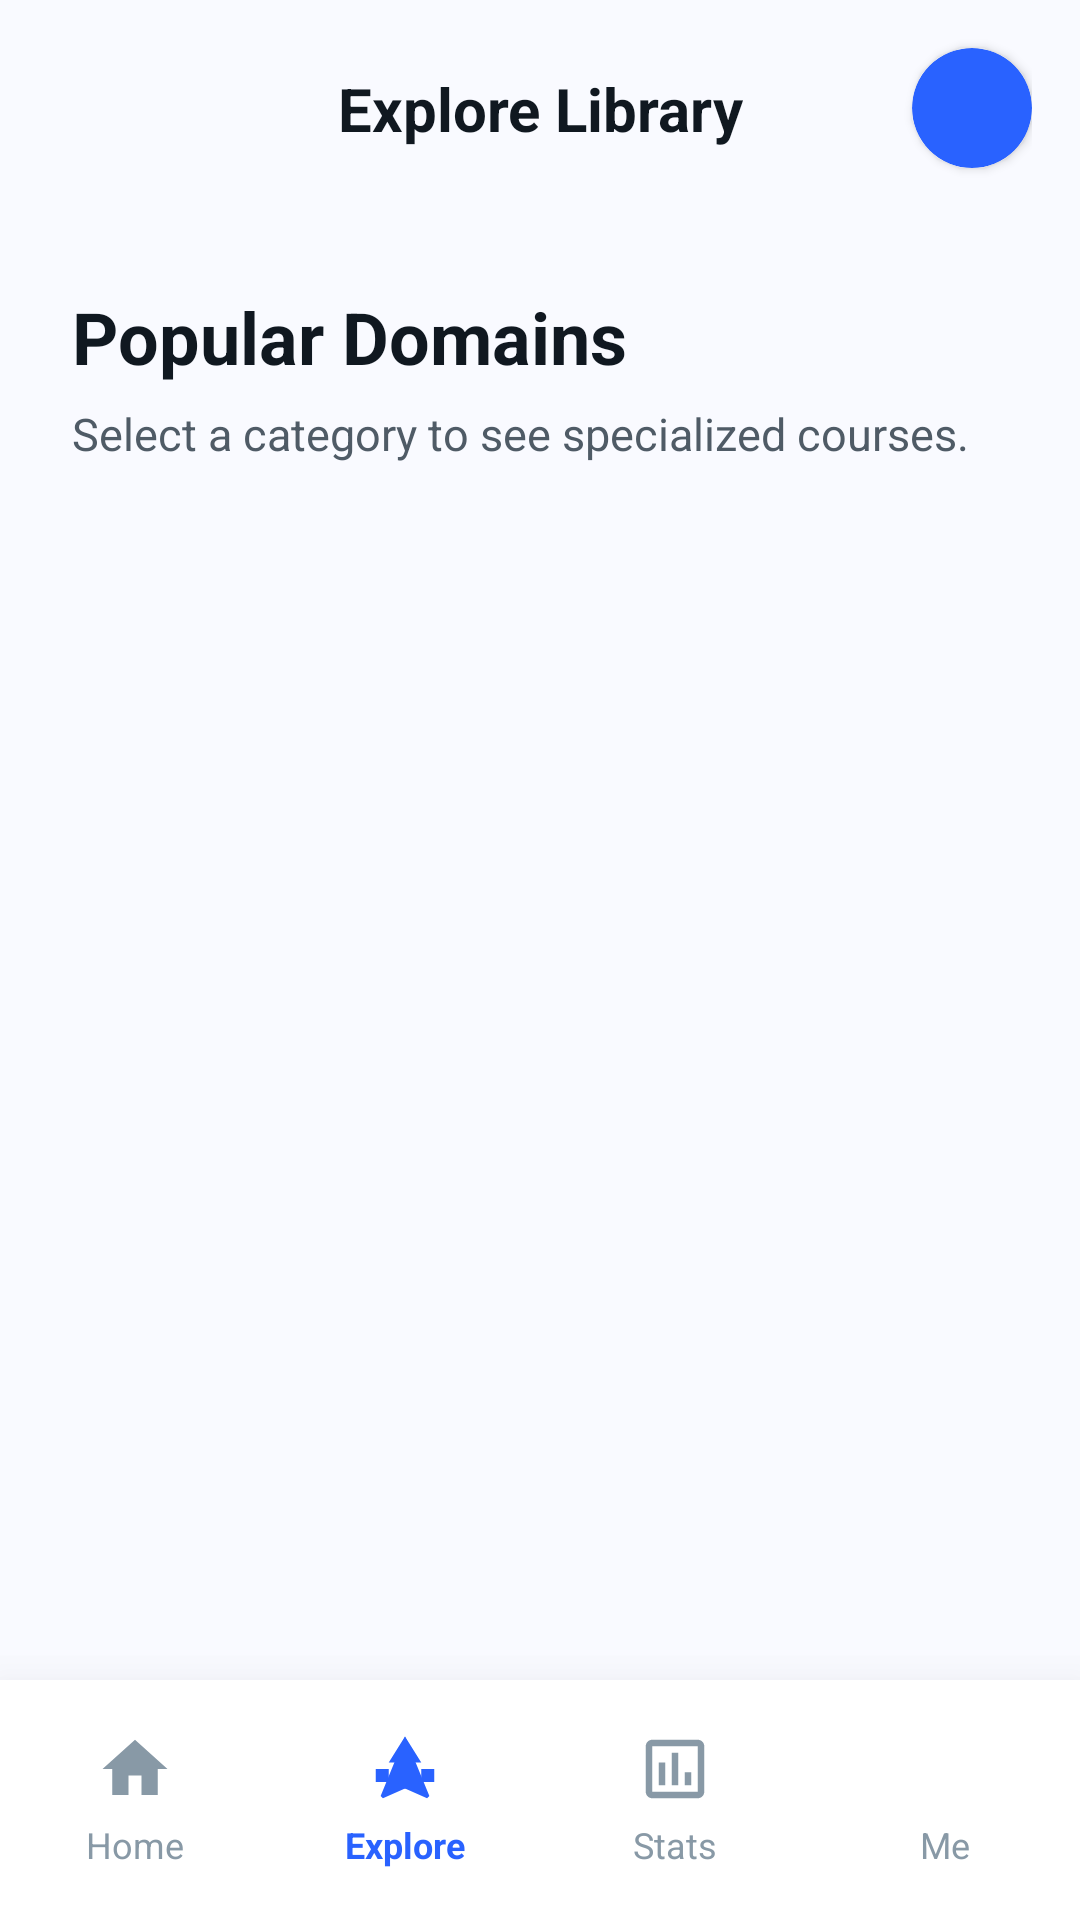

Icons on this 1080*1920 Android screen, each with the point to tap as [x,y]:
progress: [675,1769]
